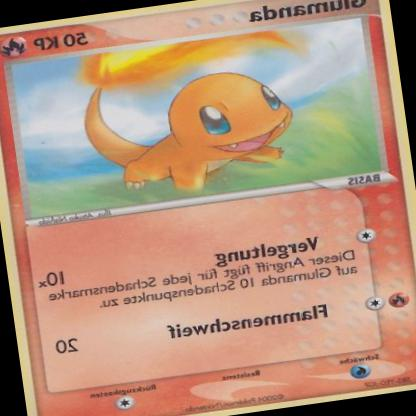Charmander: (72, 33, 323, 208)
